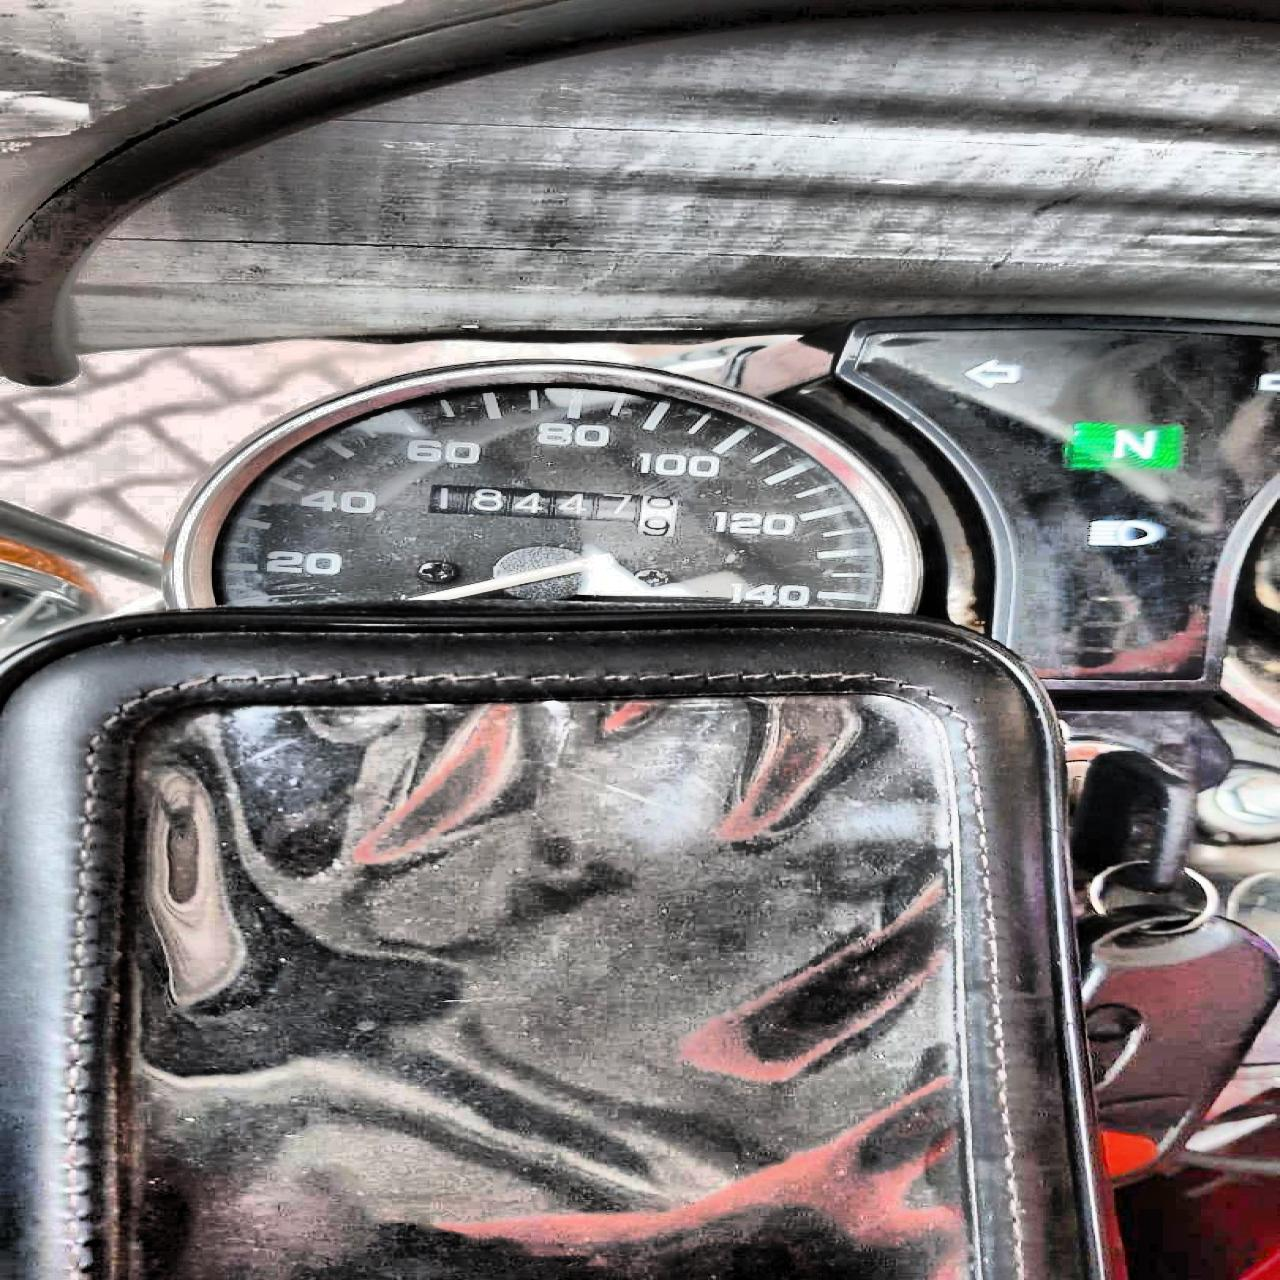1: (435, 485, 454, 511)
4: (554, 491, 588, 515), (512, 490, 544, 513)
7: (600, 490, 631, 513)
8: (471, 486, 504, 510), (645, 486, 676, 509)
9: (639, 515, 672, 536)
odometer: (421, 482, 682, 538)
